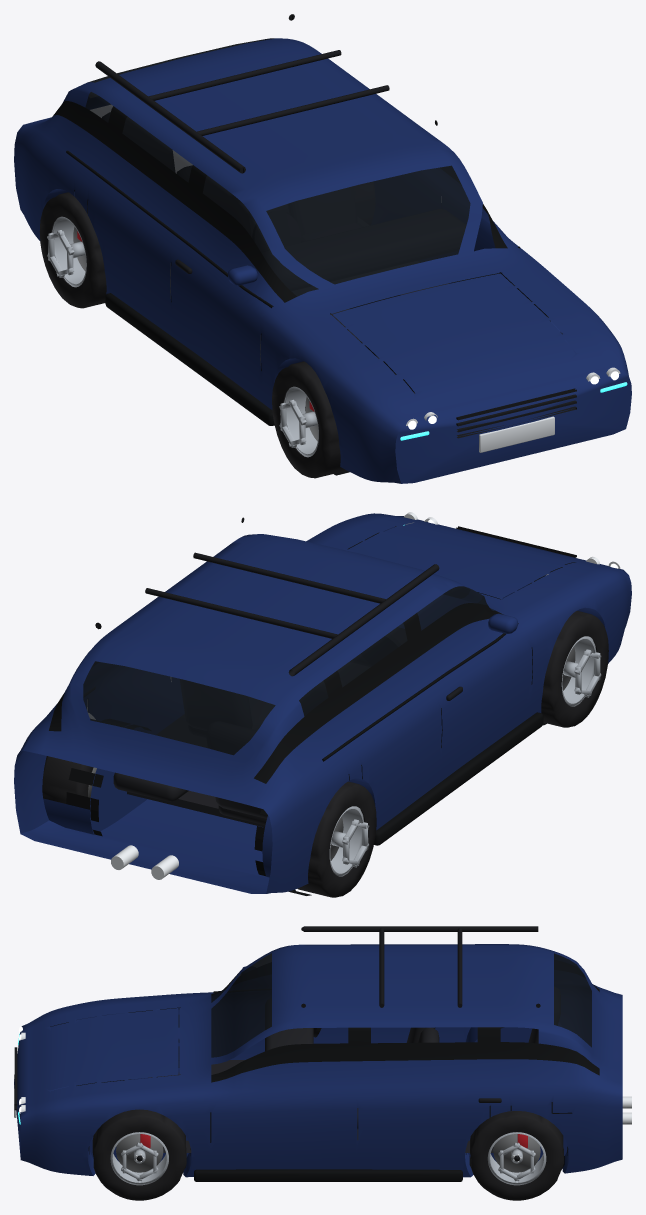
Rendered from tuner.glb.
3 renders of one model, top to bottom at view 1: azimuth 30°, elevation 25°; view 2: azimuth 150°, elevation 25°; view 3: azimuth 270°, elevation 25°, orthographic. The views are drawn at different scales.
Parts seen in each view (by area): view 1: Body, WheelFL, WheelRL, WheelRR; view 2: Body, WheelRL, WheelFL, WheelRR; view 3: Body, WheelFR, WheelRR.
Boxes of the visible parts, x1,y1,x2,y2 form: Body: [14, 14, 631, 483]; WheelFL: [272, 361, 346, 478]; WheelRL: [39, 192, 106, 308]; WheelRR: [354, 182, 374, 224]; Body: [14, 512, 631, 895]; WheelRL: [297, 781, 376, 897]; WheelFL: [541, 611, 608, 727]; WheelRR: [42, 719, 99, 803]; Body: [14, 926, 631, 1181]; WheelFR: [92, 1109, 186, 1200]; WheelRR: [470, 1111, 563, 1200].
Bounding box in the file's own units: 2.08 × 1.51 × 4.57.
